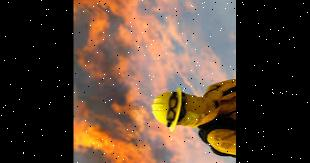fire: (74, 0, 222, 79), (73, 97, 207, 163)
